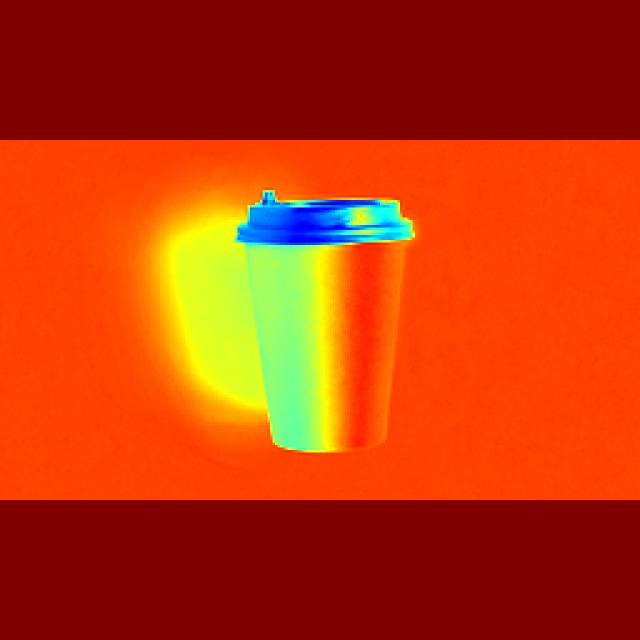Paper Cups: (234, 188, 436, 450)
